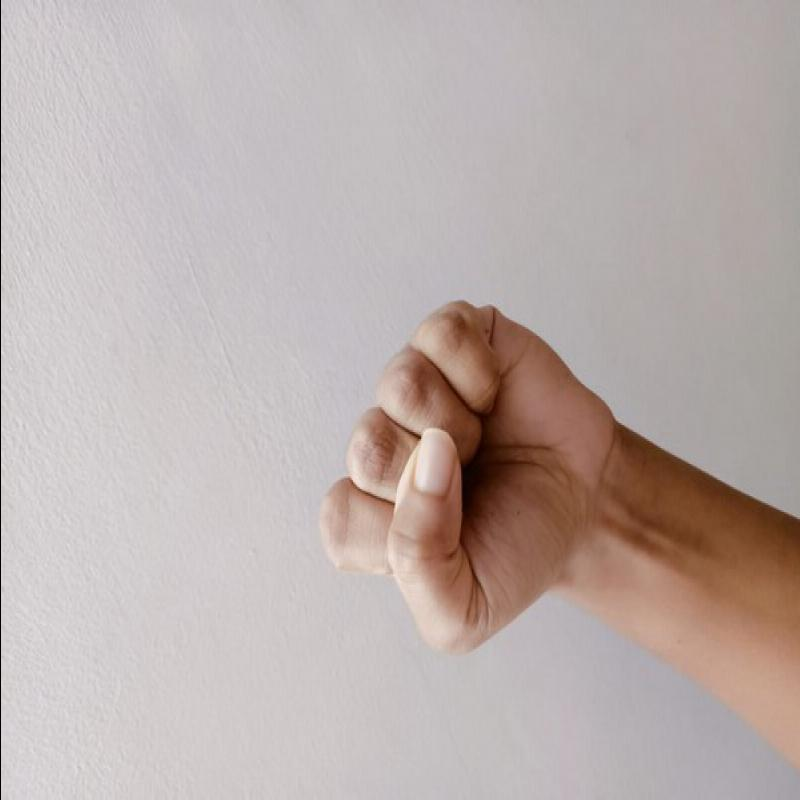Mushti: (276, 290, 633, 676)
